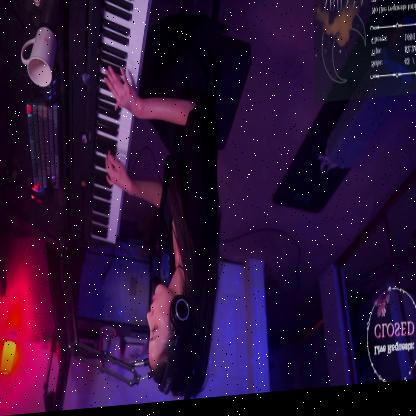streamer: (104, 16, 224, 409)
